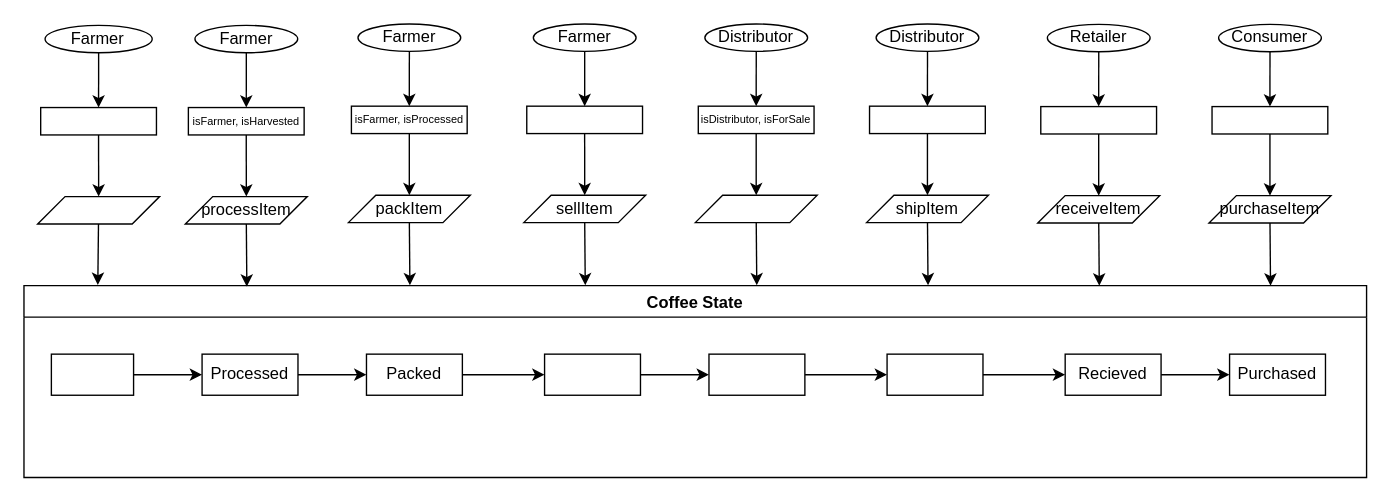
This 1391x501 diagram has some shape labels left out. The shapes that lost their labels are listed below. From the top down, each one's centre as x and y in pixels, then its label:
At (x=97, y=120): "isFarmer".
At (x=584, y=119): "isFarmer, isPacked".
At (x=926, y=119): "isDistributor, isSold".
At (x=1098, y=119): "isRetailer, isShipped".
At (x=1269, y=119): "isConsumer, isReceived".
At (x=98, y=209): "harvestItem".
At (x=755, y=208): "buyItem".
At (x=92, y=374): "Harvested".
At (x=591, y=374): "ForSale".
At (x=756, y=374): "Sold".
At (x=934, y=374): "Shipped".
